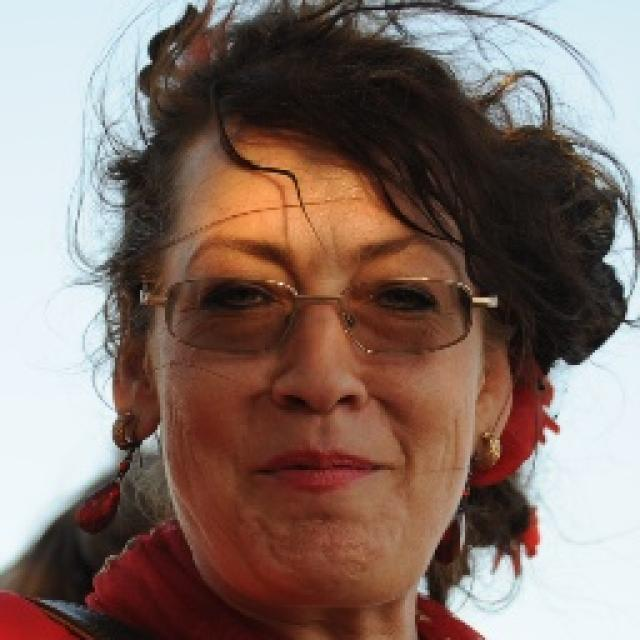earlobe: (109, 284, 162, 448), (472, 328, 512, 460)
